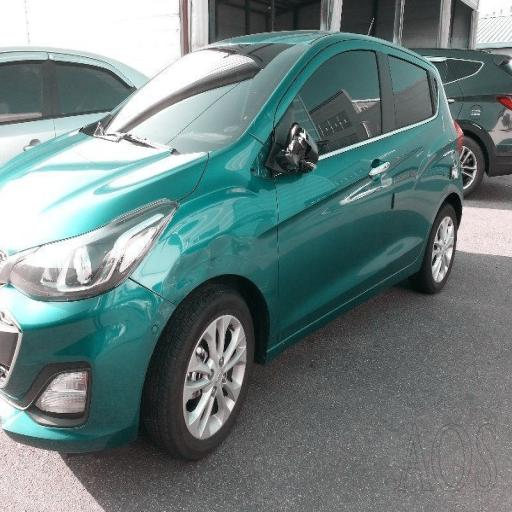dent: (95, 245, 180, 352)
scratch: (178, 202, 307, 294)
